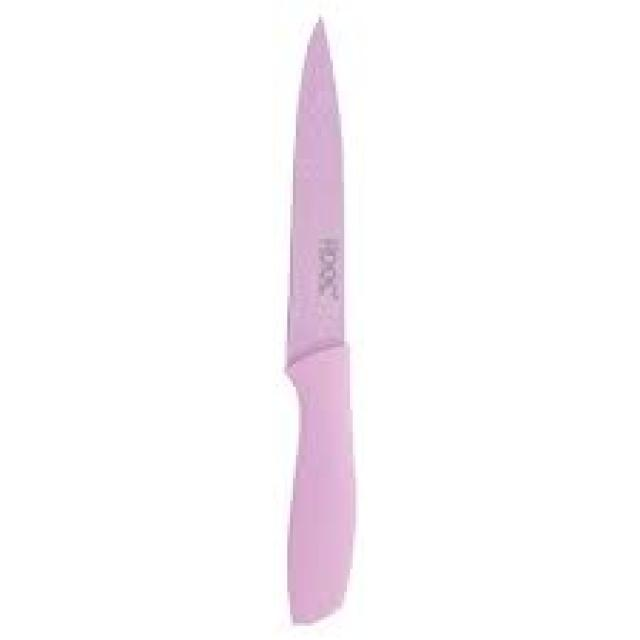knife: (268, 12, 382, 629)
